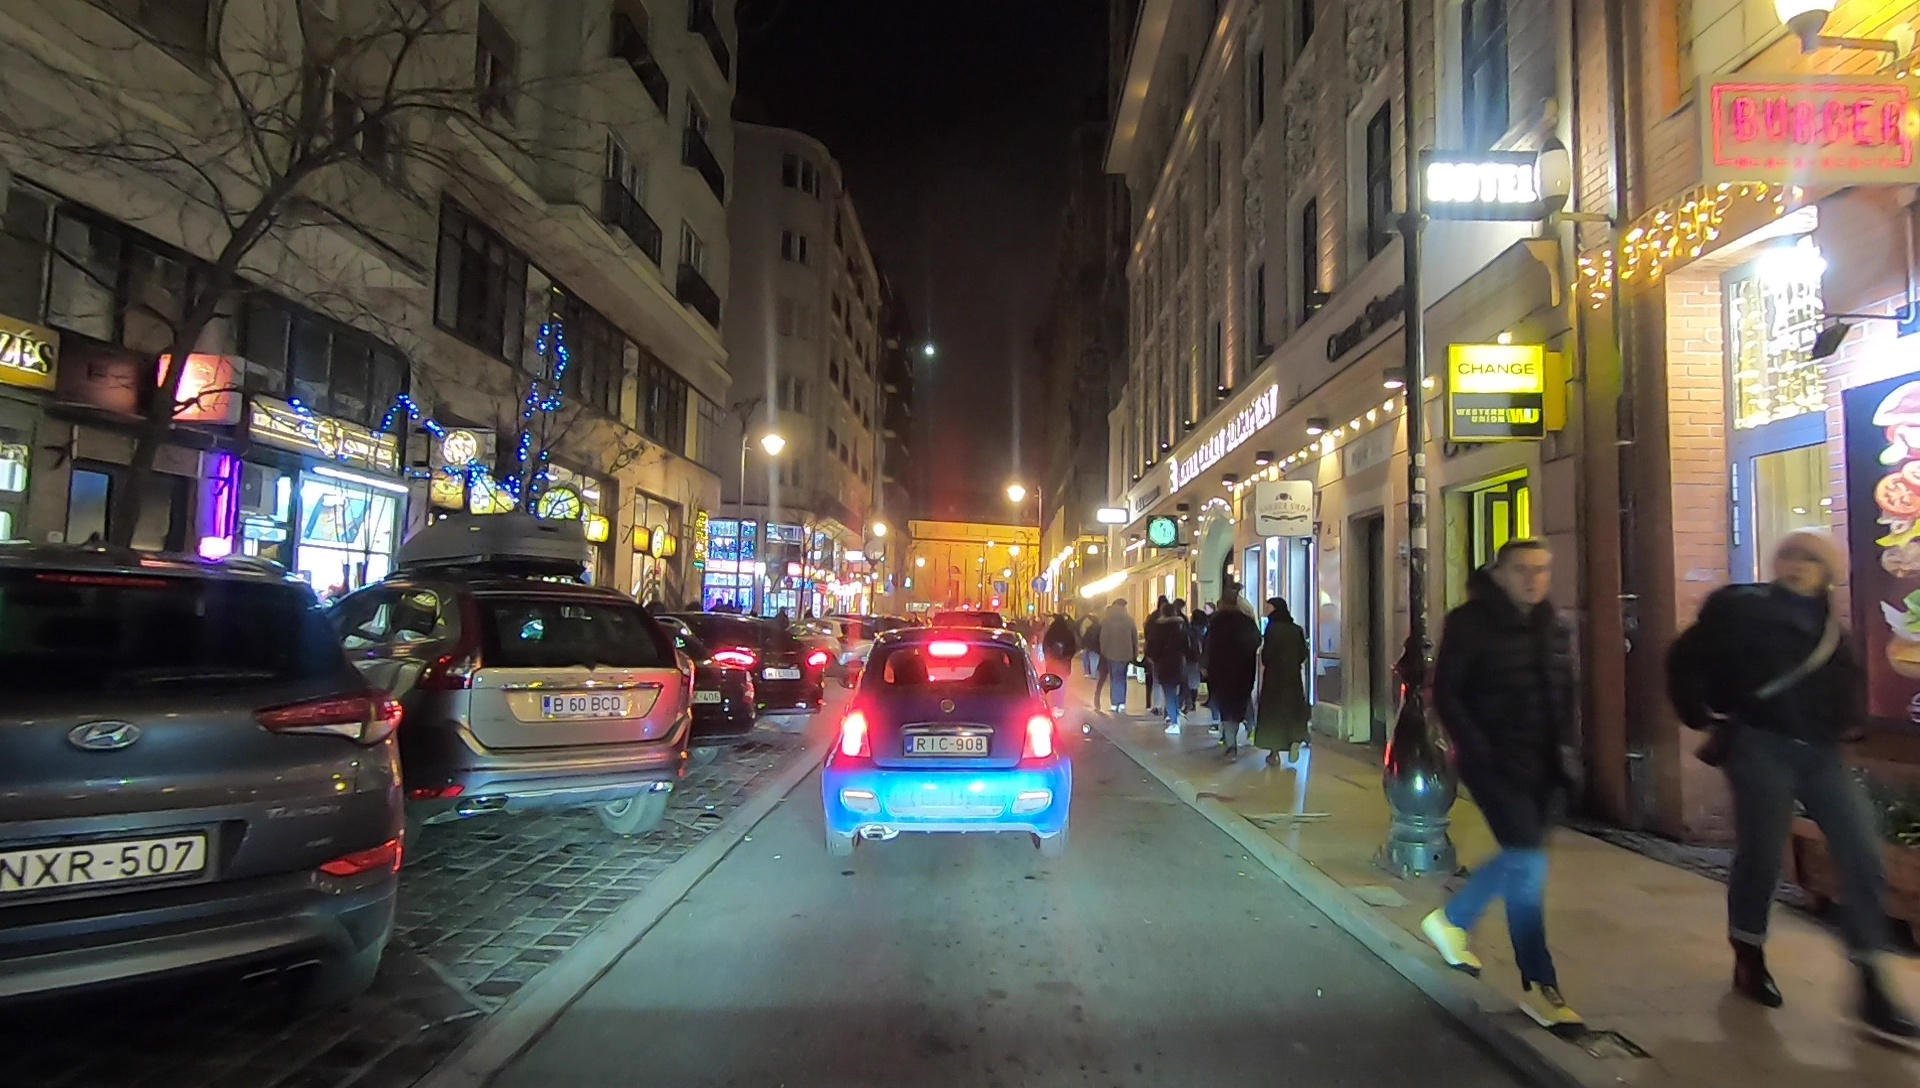person: (1667, 528, 1910, 1045), (1408, 534, 1595, 1021), (1258, 591, 1310, 767), (1206, 590, 1258, 760), (1154, 605, 1186, 732), (1104, 601, 1138, 717), (1040, 610, 1077, 711), (1187, 604, 1213, 717), (1084, 612, 1104, 683)
